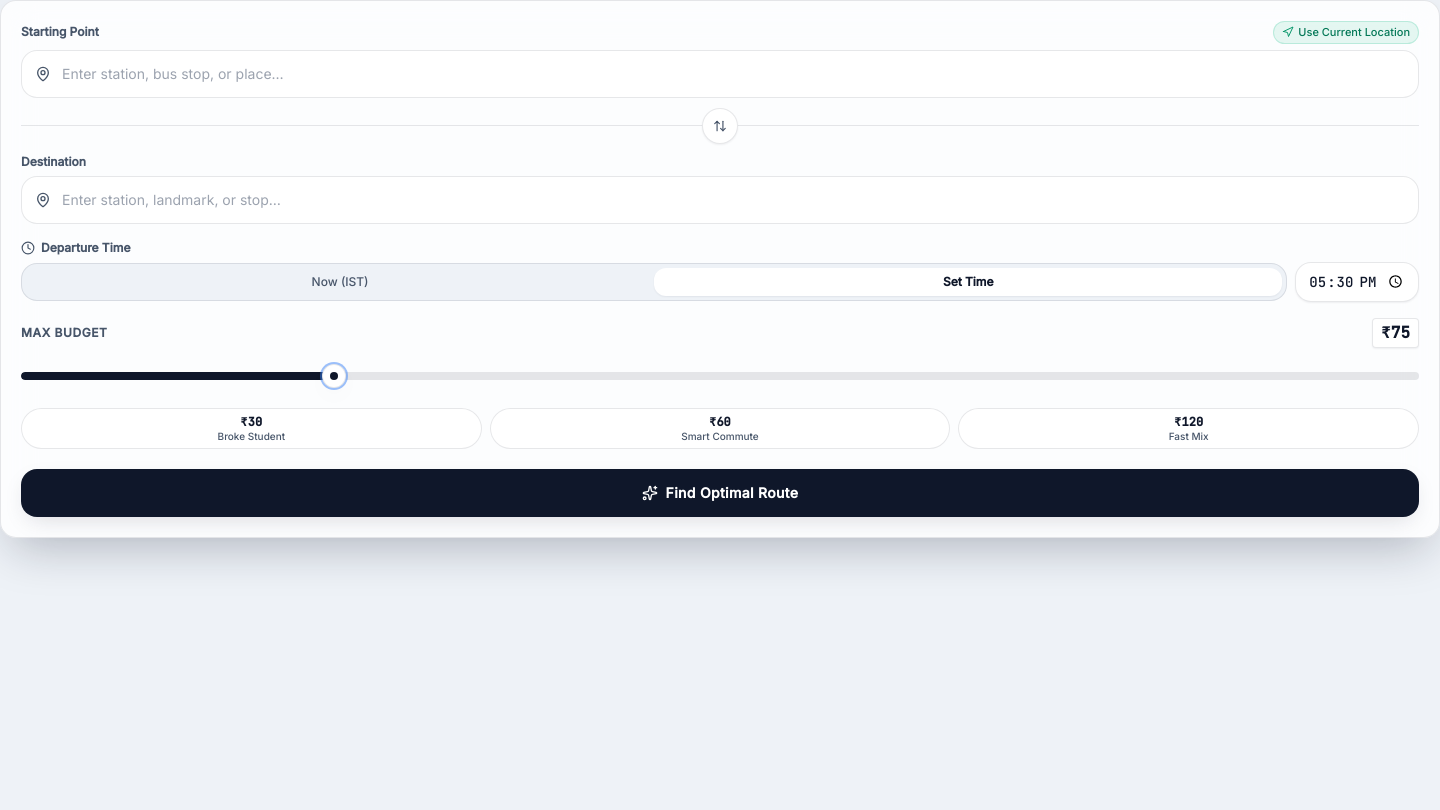
Test: Dock Component › debounces place search by 250ms and renders source labels
Type "VIT" into the dropdown labelled "Starting Point" at point(720, 74), box [21, 50, 1419, 98]
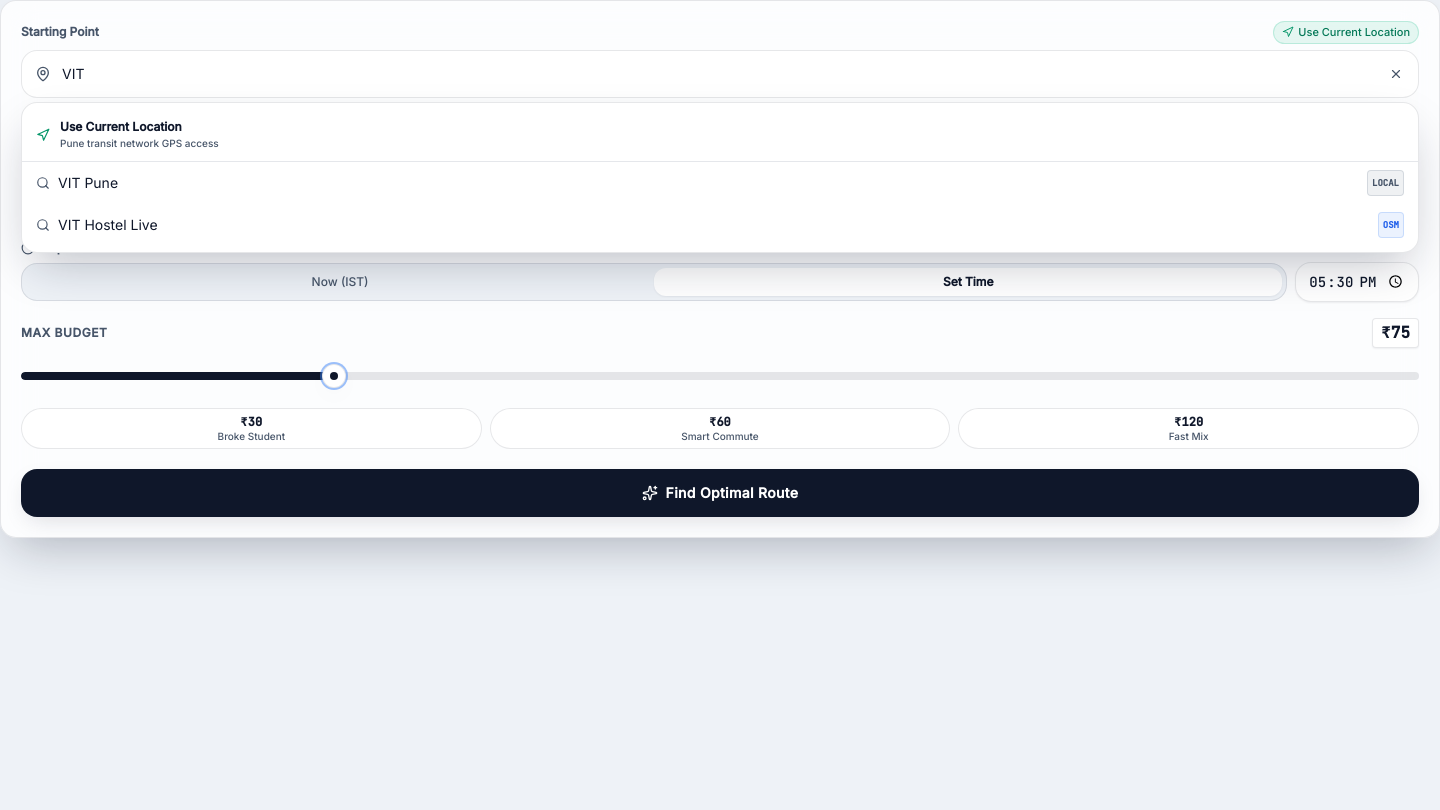
expect the number of elements with test id "search-result-source" is 2: met, box [1367, 170, 1404, 196]; [1378, 212, 1404, 238]
expect the text with test id "search-result-source" reads "local": met, box [1372, 176, 1399, 188]
expect the text with test id "search-result-source" reads "osm": met, box [1383, 218, 1399, 230]
